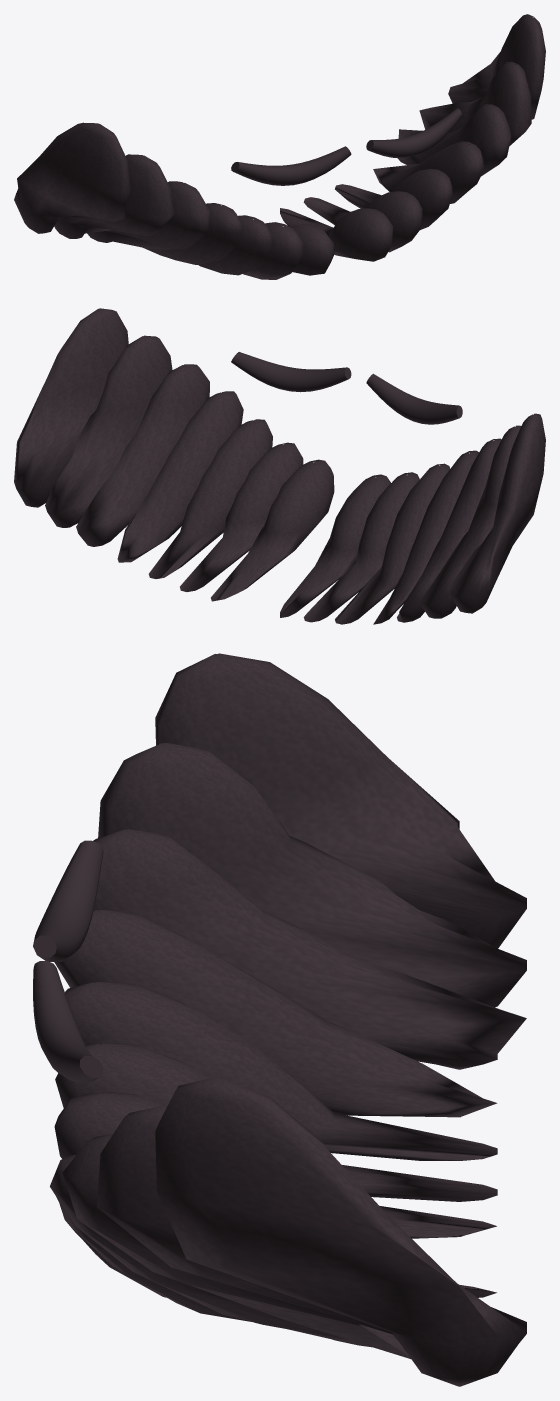
Rendered from facial_short_boxed_beard_default.gltf.
3 renders of one model, top to bottom at view 1: azimuth 30°, elevation 25°; view 2: azimuth 150°, elevation 25°; view 3: azimuth 270°, elevation 25°, orthographic. The views are drawn at different scales.
Visible parts, largest first — view 1: Short Boxed Beard; view 2: Short Boxed Beard; view 3: Short Boxed Beard.
Part boxes in pixels (box(x1,y1,x2,y2)): Short Boxed Beard: box(14, 14, 545, 279); Short Boxed Beard: box(14, 308, 545, 624); Short Boxed Beard: box(33, 653, 526, 1386).
Size of the model in its own units: 0.3911 by 0.1572 by 0.1754.
1 material, 1 textured.
